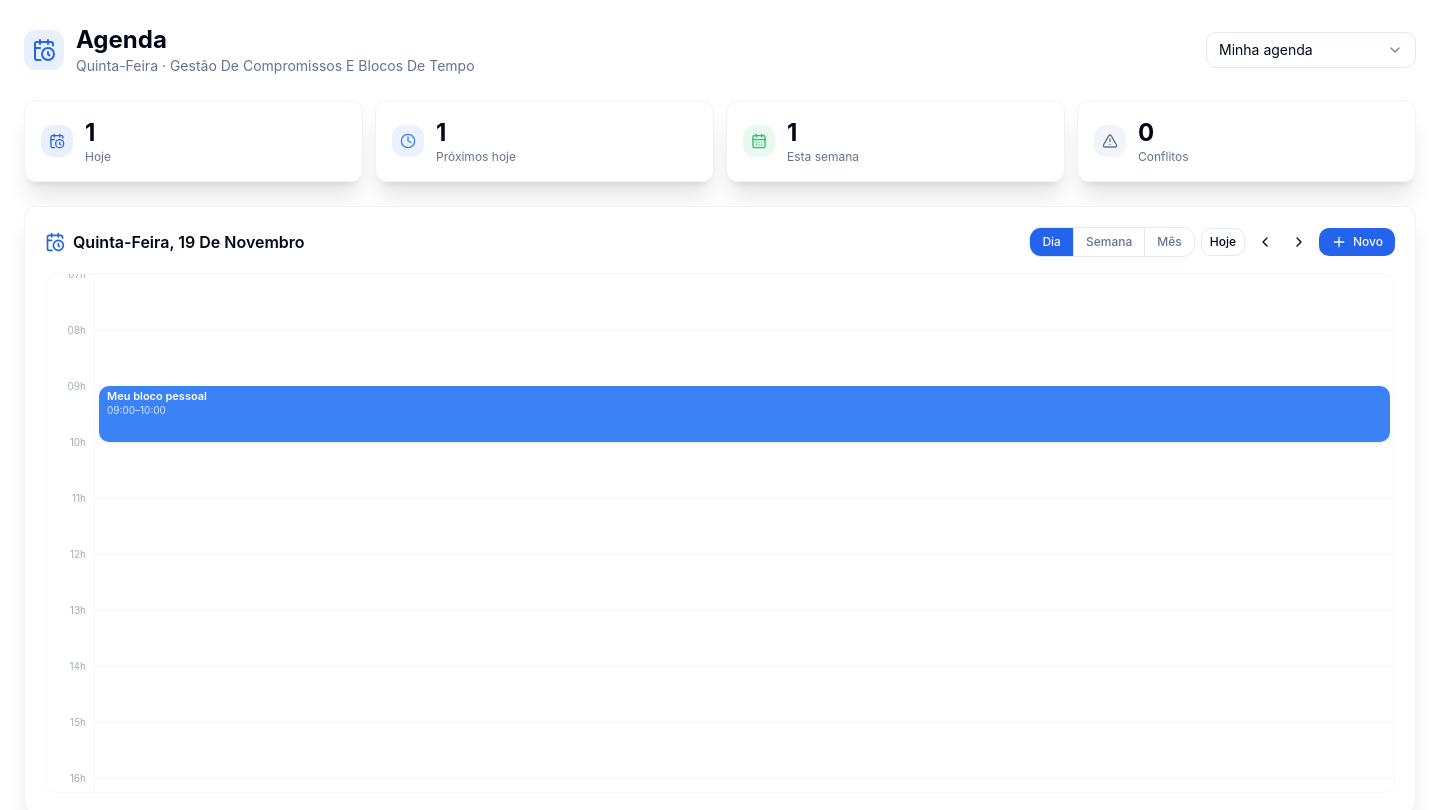
Test case: AgendaPage — collaborator calendar (MGR-03, MGR-11) › renders an empty calendar with an invitation to schedule, not an error (Edge Cases)
This screenshot has width=1440, height=810.
Press the mouse on the dropdown named "Colaborador": (1311, 50) [1206,32,1416,68]
Click the dropdown named "Colaborador": (1311, 50) [1206,32,1416,68]
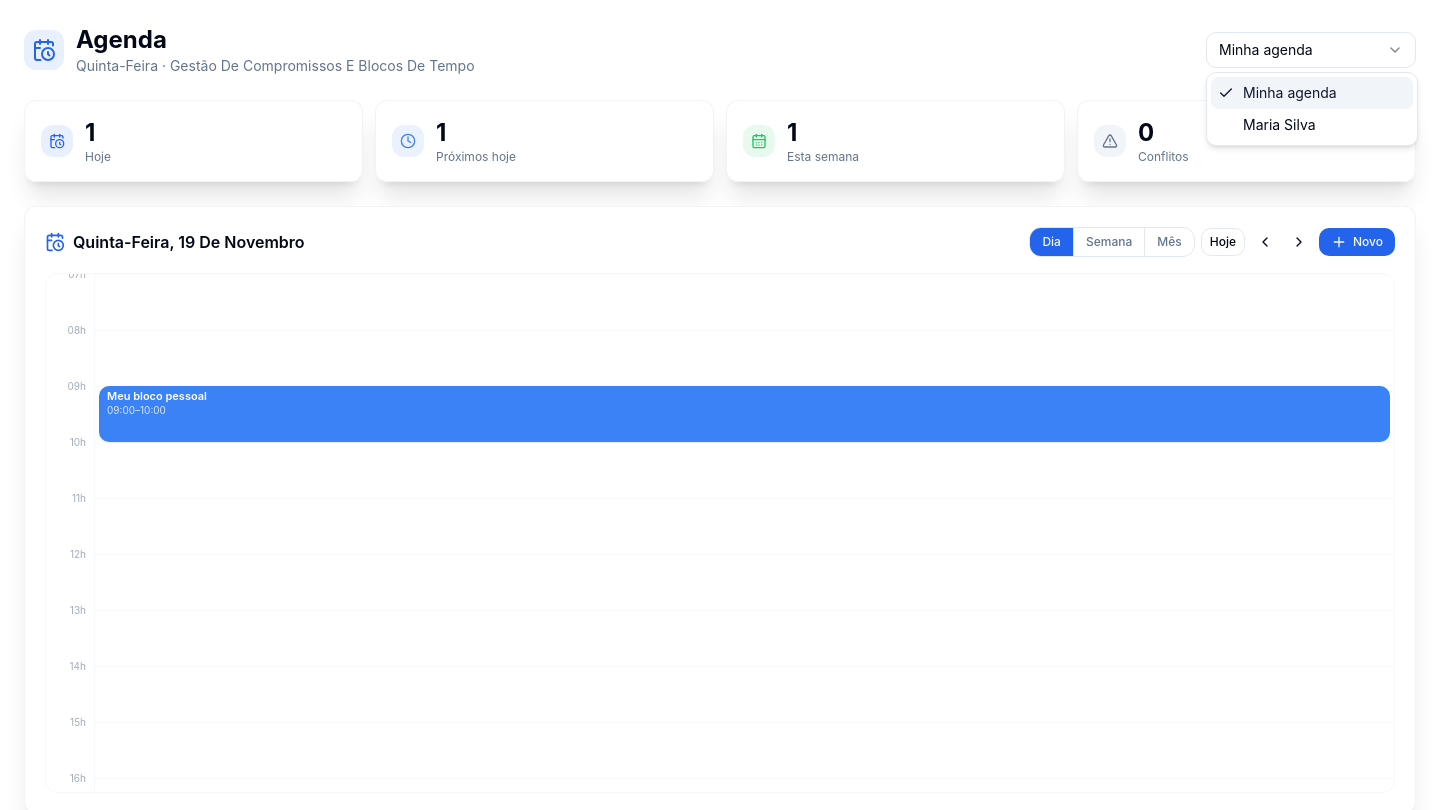
Click the option "Maria Silva": (1279, 124) [1243,116,1316,133]
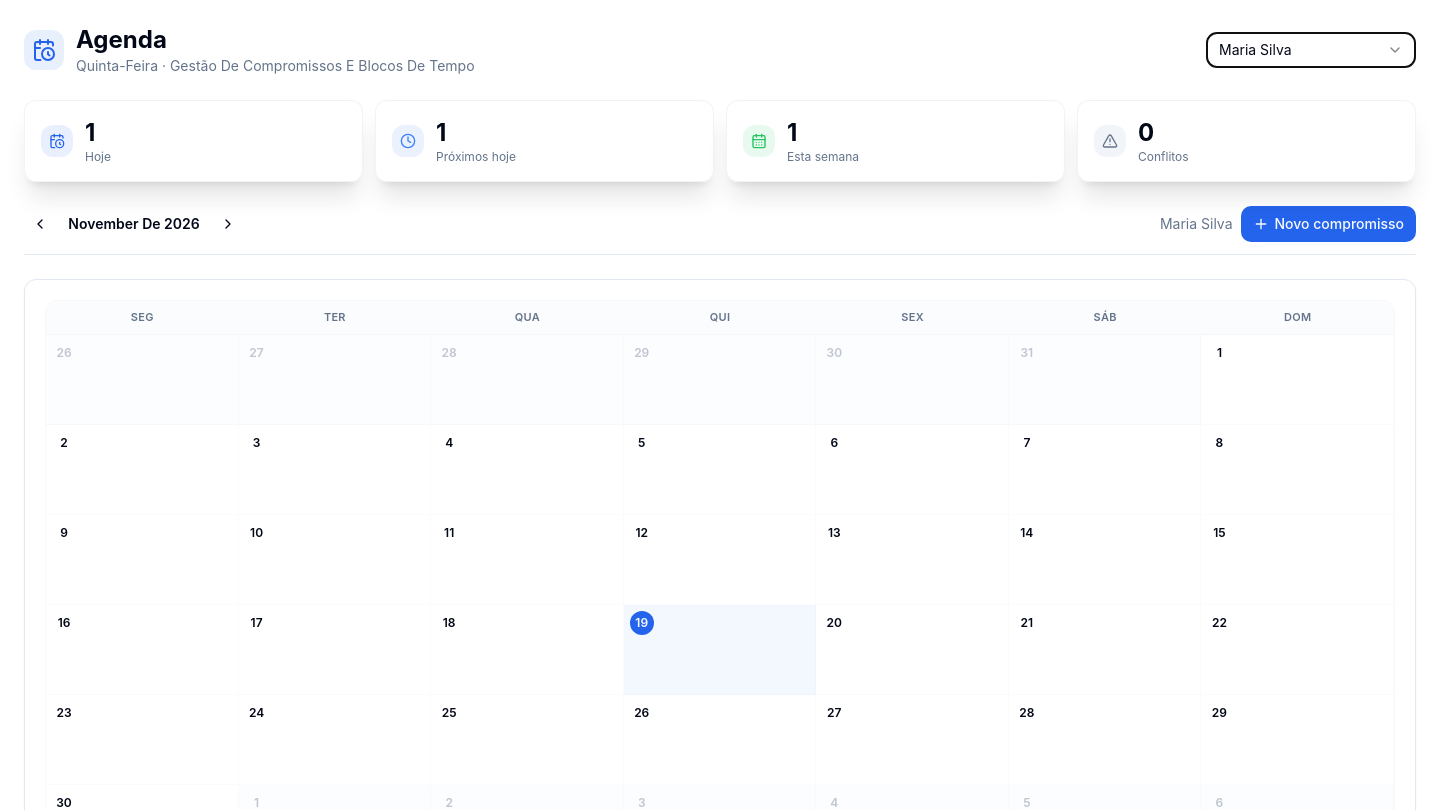
Now the button "Novo compromisso" is shown, box [1240,206,1416,242]
Now the text "Seg" is shown, box [131,310,154,324]
